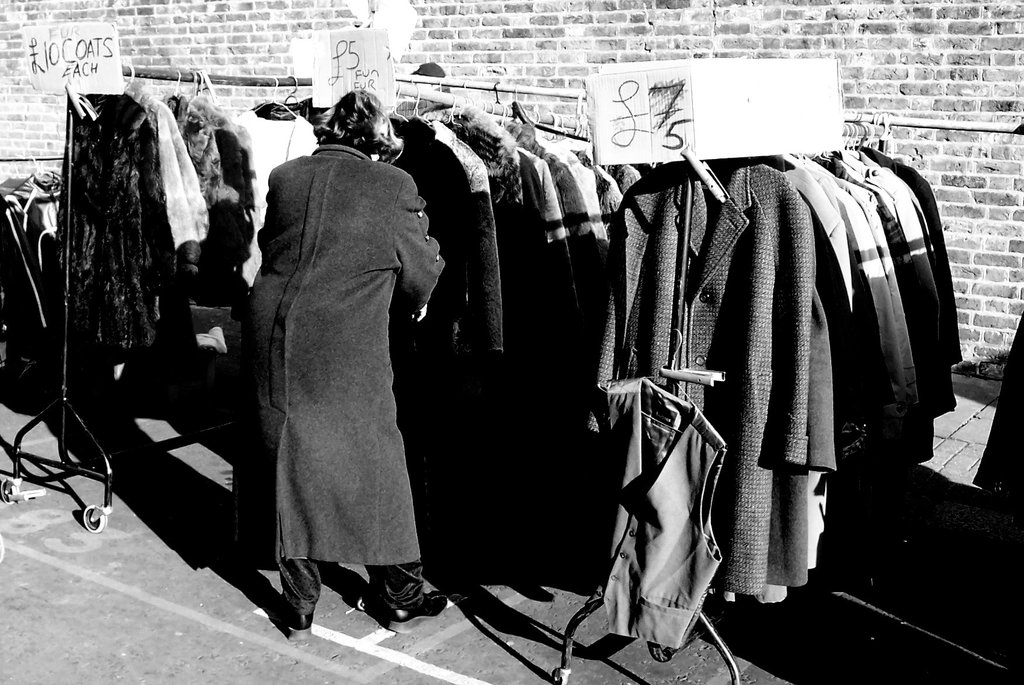Footwear: (385, 588, 447, 636), (271, 599, 311, 645)
